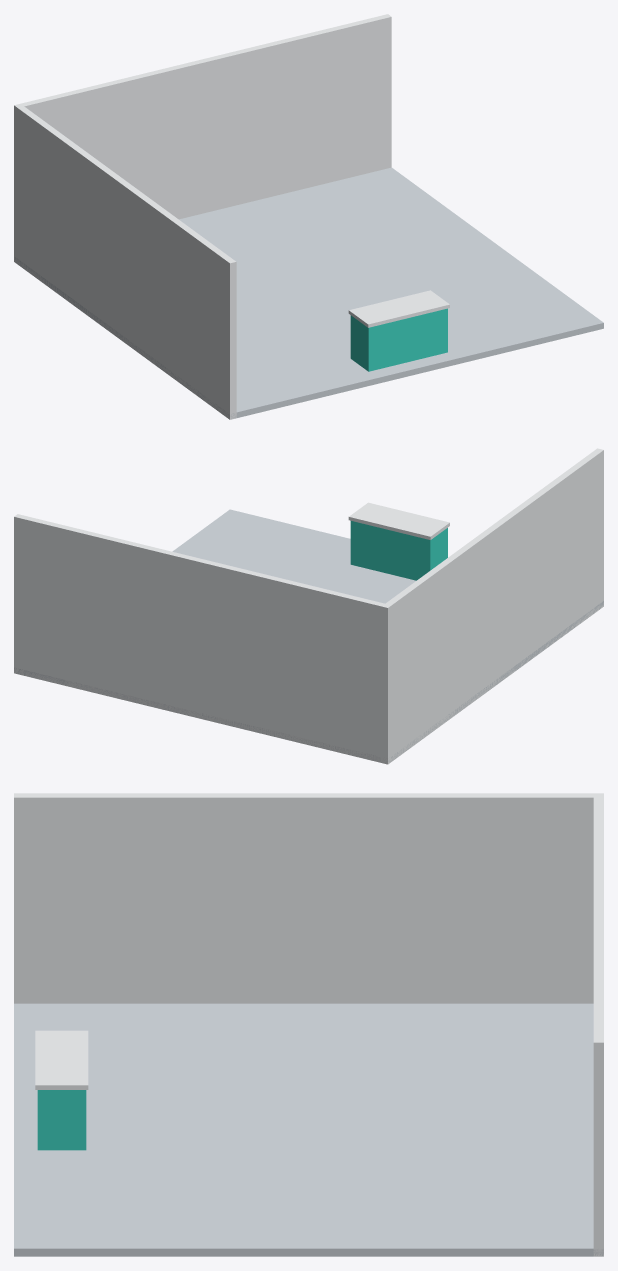
The picture shows the model from 3 angles, top to bottom: view 1: azimuth 30°, elevation 25°; view 2: azimuth 150°, elevation 25°; view 3: azimuth 270°, elevation 25°; orthographic projection. The views are drawn at different scales.
Parts seen in each view (by area): view 1: Exhibition Booth Concept; view 2: Exhibition Booth Concept; view 3: Exhibition Booth Concept.
Part boxes in pixels (box(x1,y1,x2,y2)): Exhibition Booth Concept: box(14, 14, 603, 419); Exhibition Booth Concept: box(14, 448, 603, 764); Exhibition Booth Concept: box(14, 793, 603, 1256).
Size of the model in its own units: 8 by 3.2 by 8.
